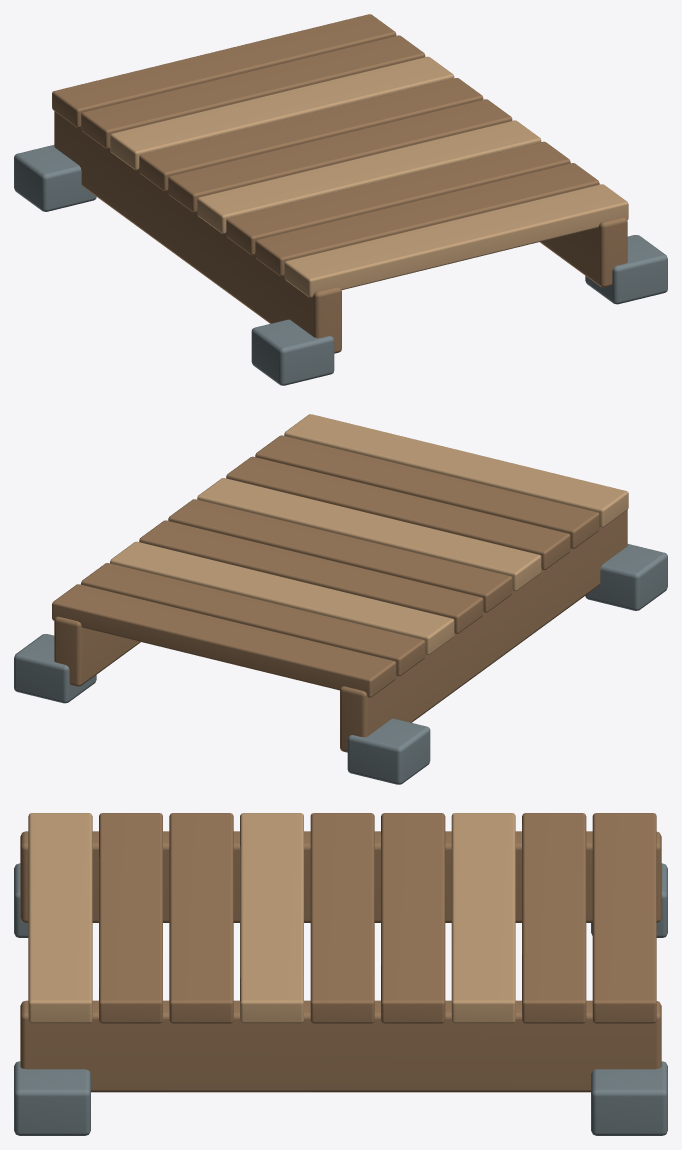
Rendered from SM_Bridge_Segment_4m.fbx.
3 views of the same model, one above another, from view 1: azimuth 30°, elevation 25°; view 2: azimuth 150°, elevation 25°; view 3: azimuth 270°, elevation 25° (orthographic). The views are drawn at different scales.
Parts seen in each view (by area): view 1: SM_Bridge_Segment_4m; view 2: SM_Bridge_Segment_4m; view 3: SM_Bridge_Segment_4m.
Part boxes in pixels (bbox=[...]): SM_Bridge_Segment_4m: bbox=[14, 14, 667, 385]; SM_Bridge_Segment_4m: bbox=[14, 414, 667, 784]; SM_Bridge_Segment_4m: bbox=[14, 813, 667, 1135].
Bounding box in the file's own units: 3.4 × 0.8 × 4.08.
